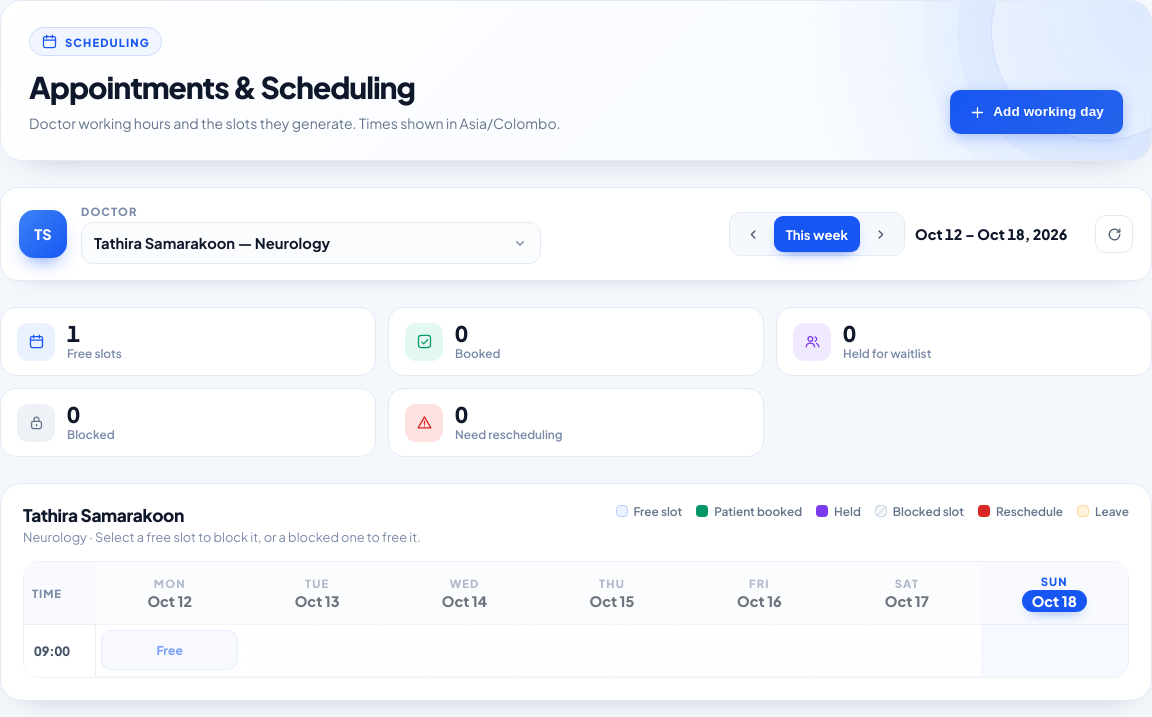
AppointmentsPage redesign interactions › asks for a reason before blocking a free slot, then blocks it
Step 1. Click the button "Free" → coordinates (170, 650), box [101, 630, 238, 670]
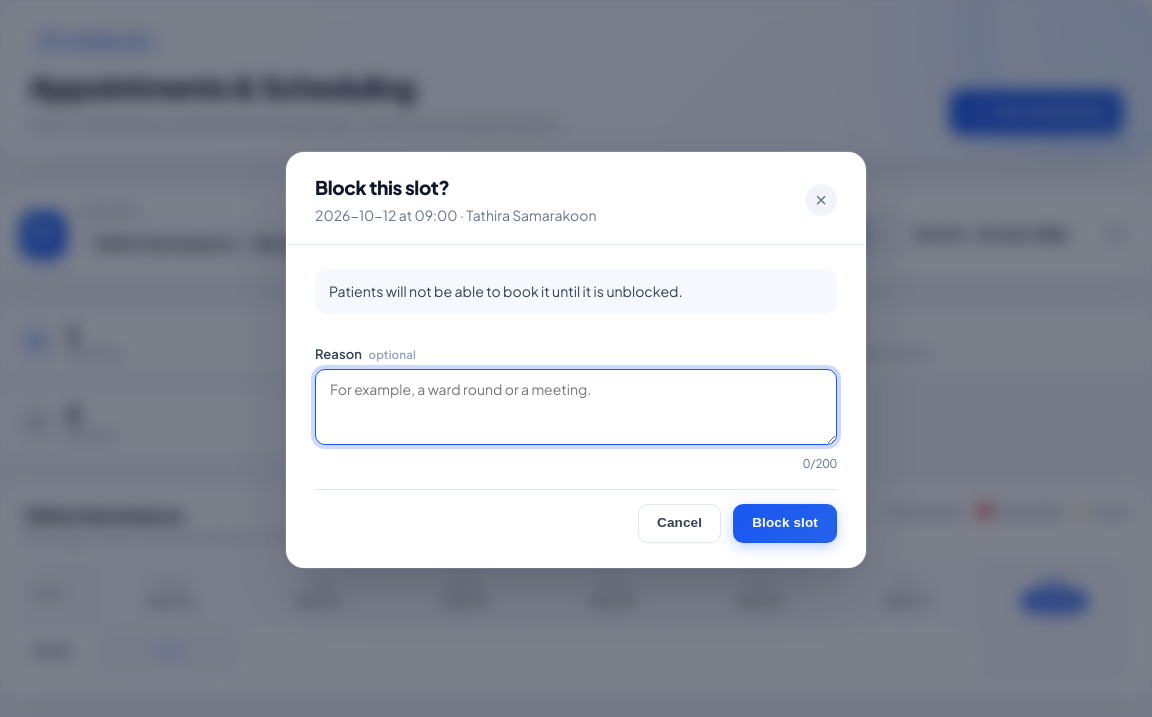
Step 2. Type "Ward round" into the text box labelled "Reason optional" → coordinates (576, 408), box [315, 370, 837, 446]
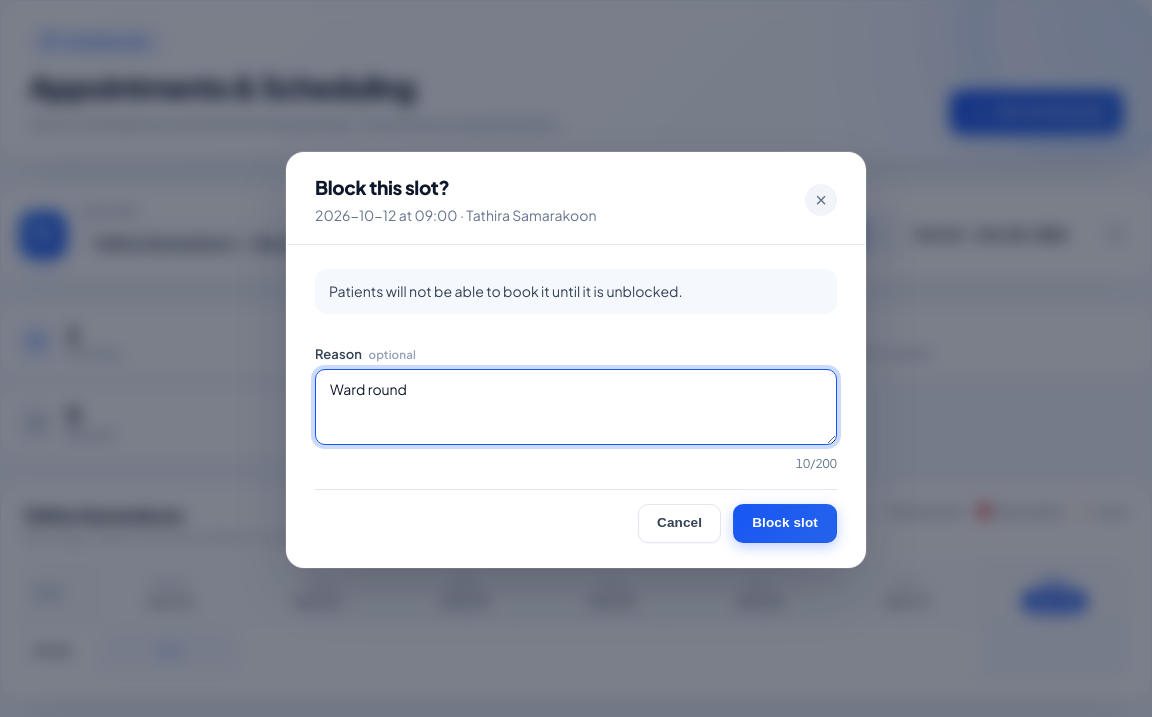
Step 3. Click the button "Block slot" → coordinates (785, 524), box [733, 504, 837, 543]
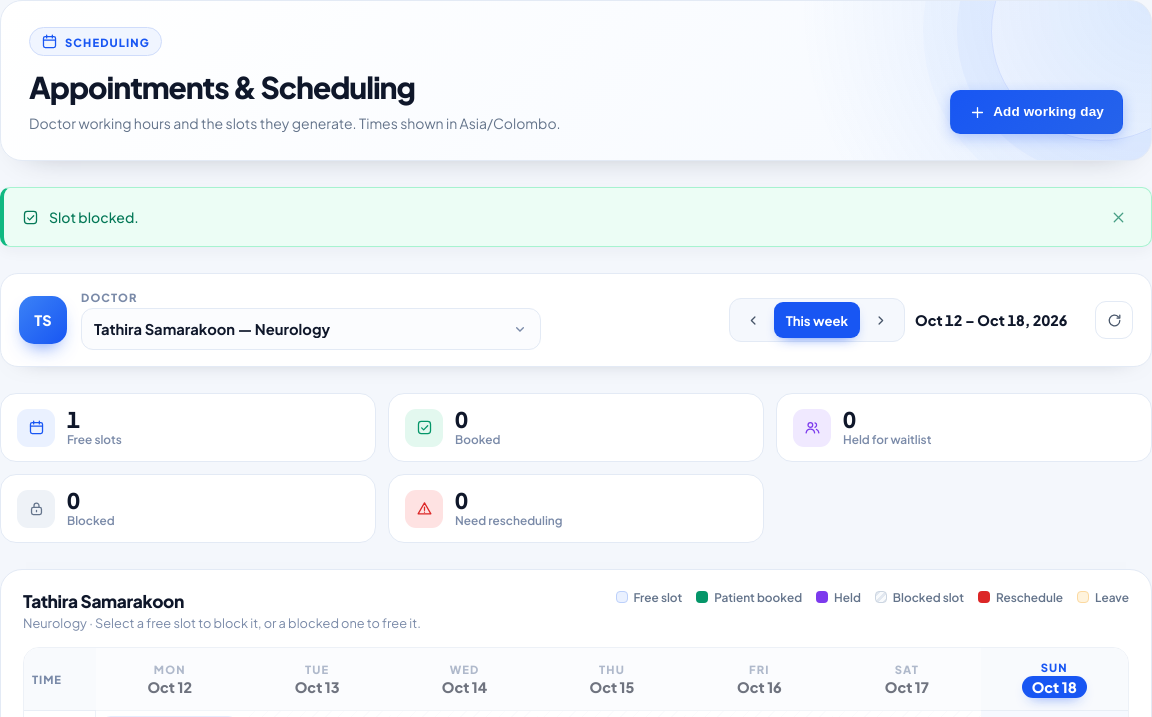
Expected: the text "Slot blocked." is shown, [49, 208, 139, 226]
